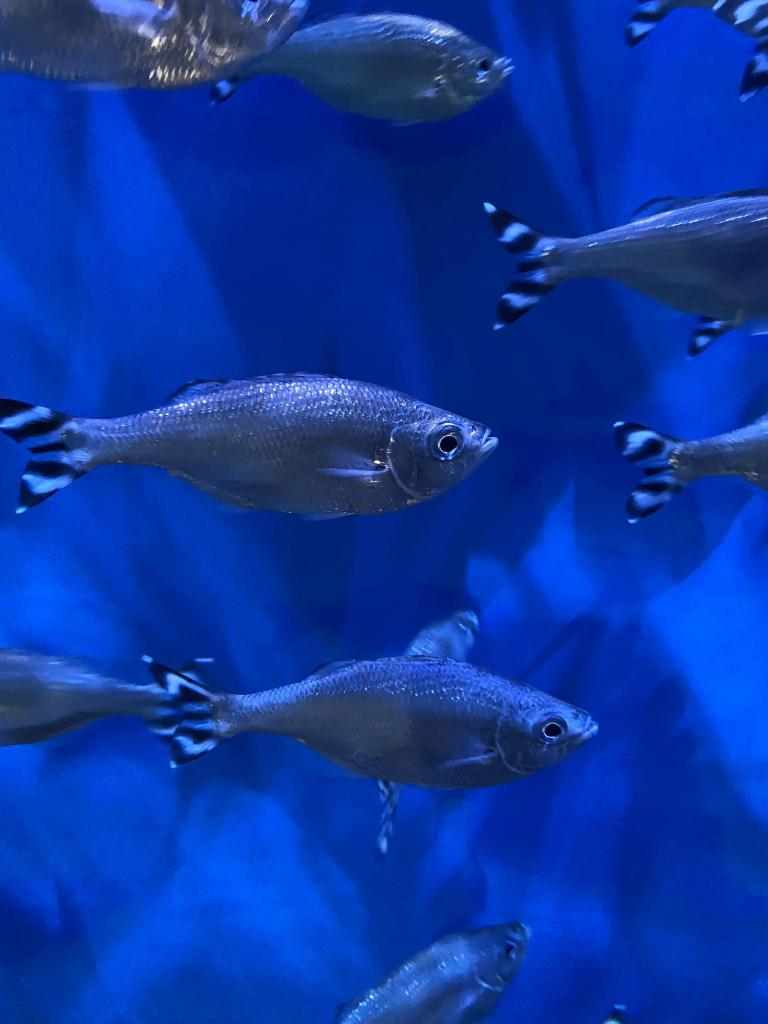fish: (0, 357, 513, 541), (172, 640, 610, 780), (481, 178, 767, 350), (240, 0, 517, 129), (0, 0, 313, 109), (328, 906, 550, 1024), (0, 642, 187, 755), (617, 407, 767, 503)
